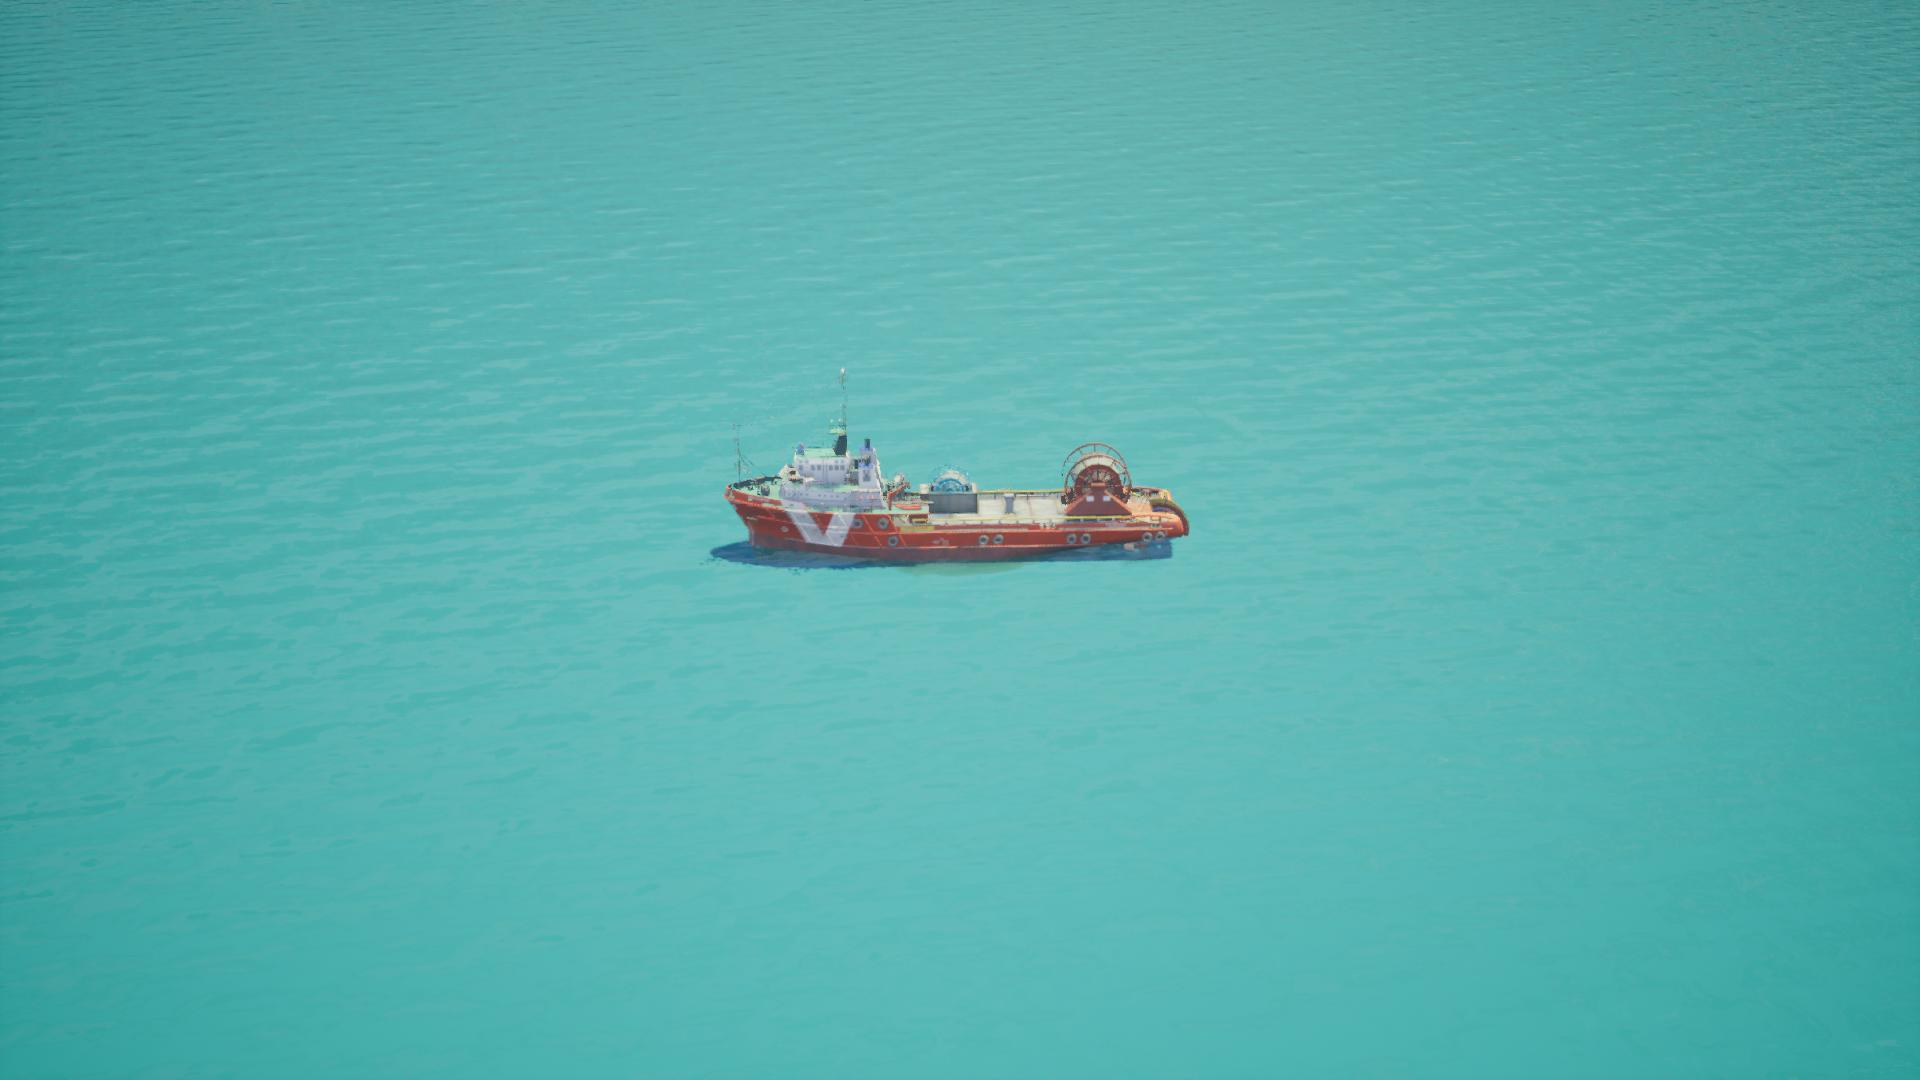Tug Boat: (715, 364, 1195, 570)
